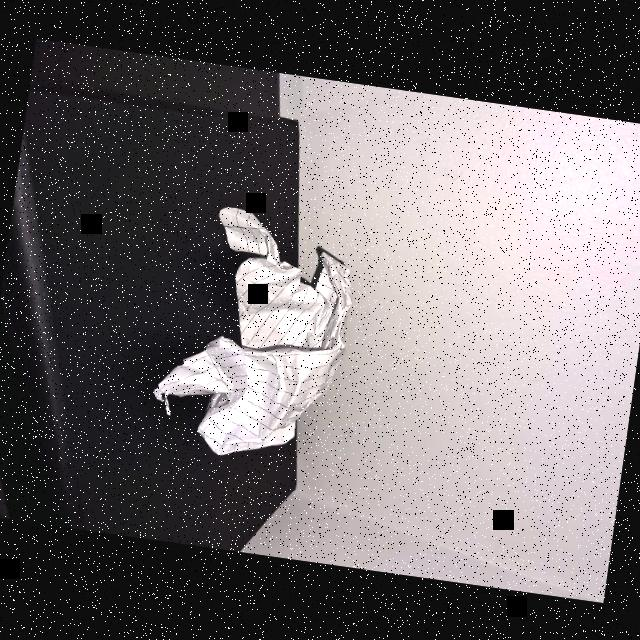scrap_paper: (172, 197, 356, 466)
